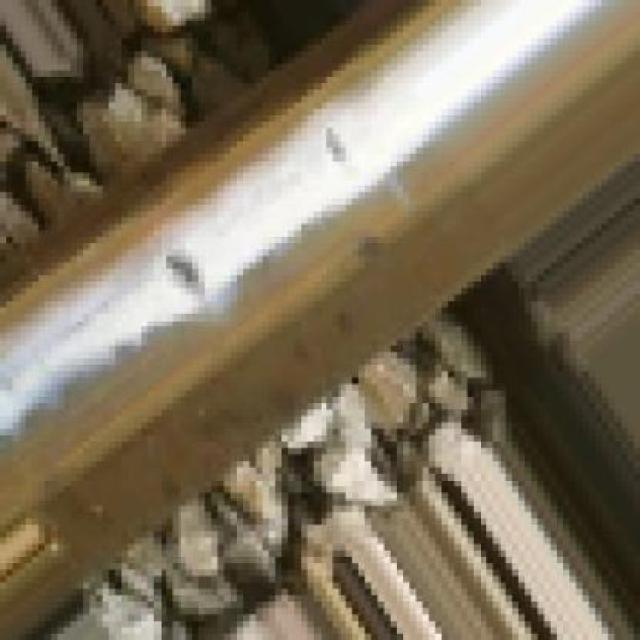defective: (3, 62, 590, 523)
